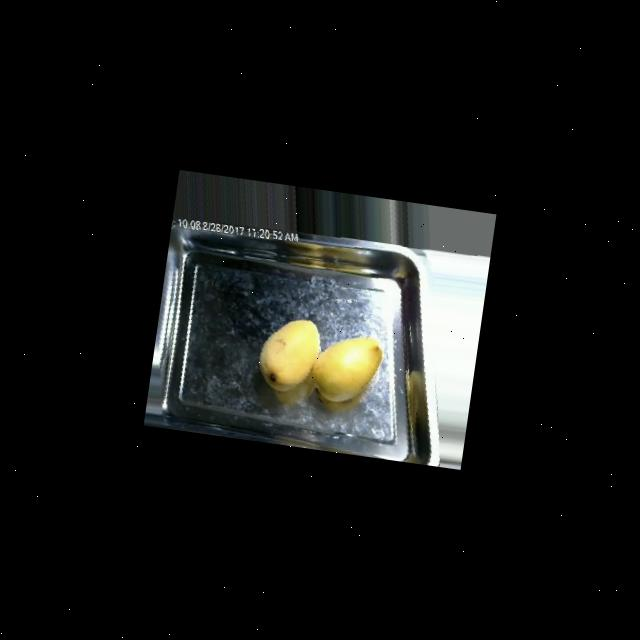Mango: (308, 330, 386, 408), (256, 314, 325, 396)
